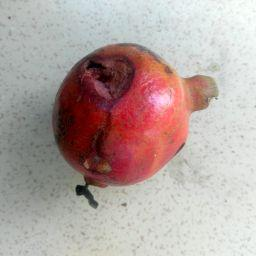pomegranate: (52, 41, 220, 208)
